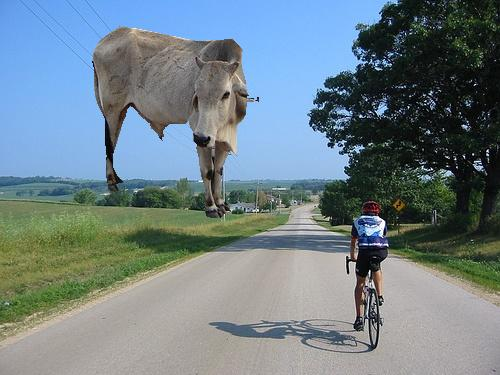tampered: (93, 27, 259, 218)
